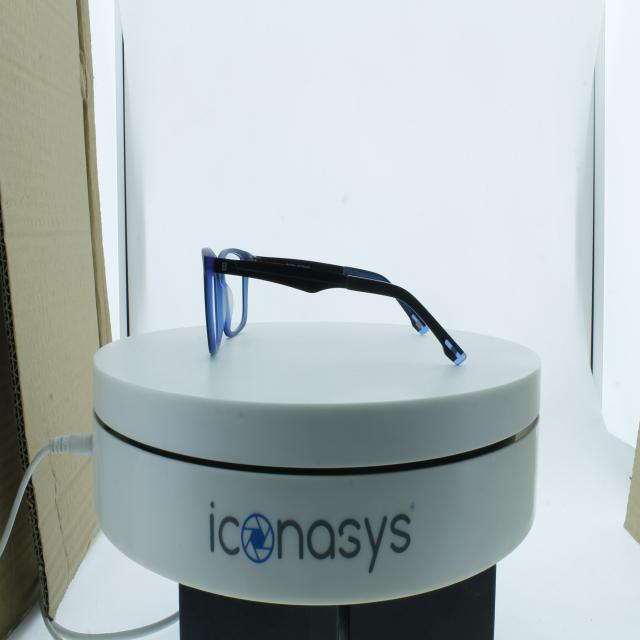Specs: (190, 229, 484, 389)
